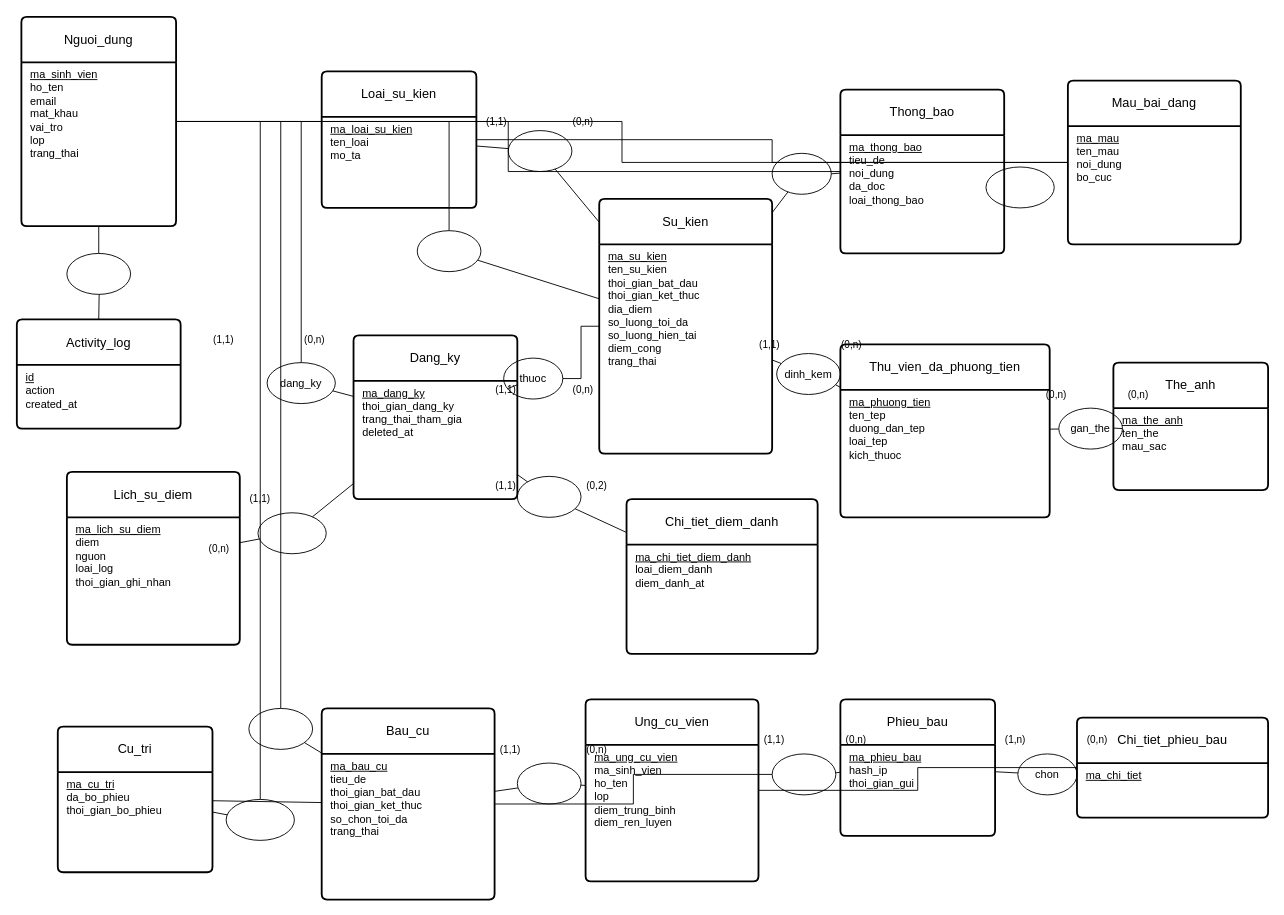
Image size: 1284x915. Some labels were removed from this diagram. Here are the shapes that lost their labels. From the top down, the centre of each, then its label:
point 539,151: phan_loai
point 801,173: nhan
point 1019,187: tao_mau
point 448,251: tao
point 98,273: ghi_log
point 548,496: diem_danh
point 291,533: cong_diem
point 280,728: to_chuc
point 548,783: co_ucv
point 803,774: bo_phieu
point 259,819: la_cu_tri
